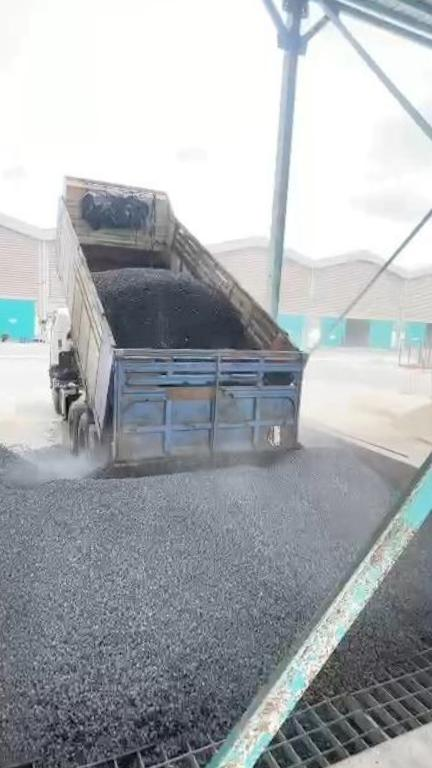gravel: (0, 419, 411, 768), (315, 499, 432, 694), (93, 268, 246, 348)
sand: (339, 401, 432, 457)
